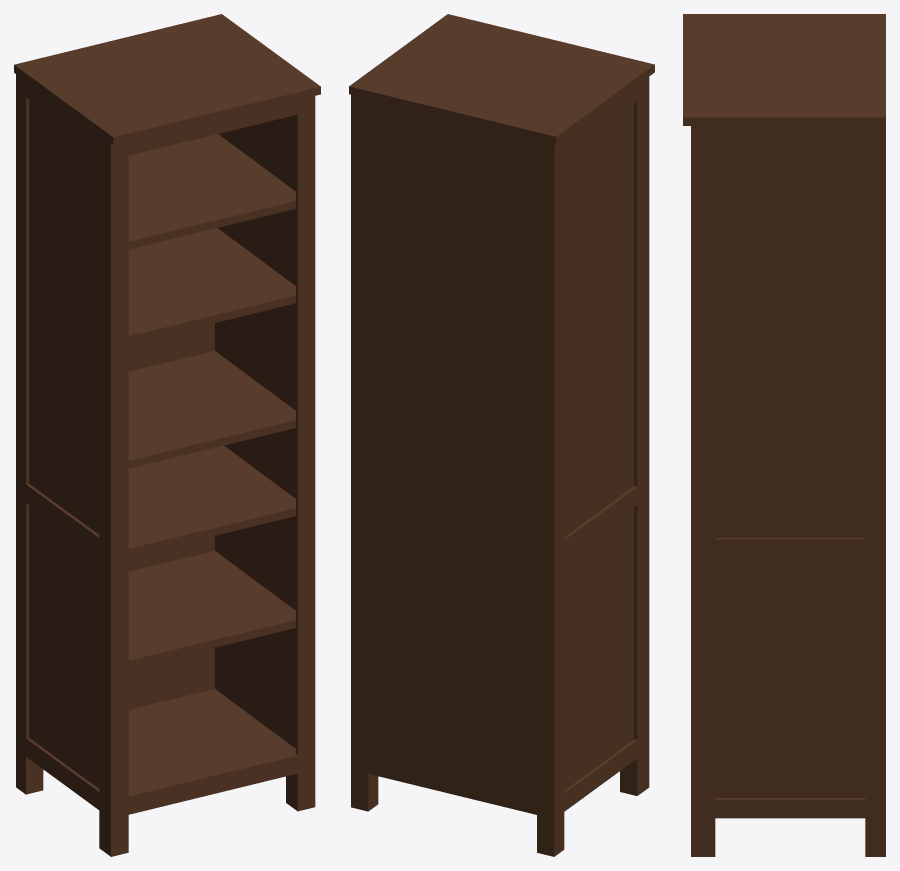
The model's file is bookcase_bookshelf_low_poly.glb.
3 views of the same model, side by side, from view 1: azimuth 30°, elevation 25°; view 2: azimuth 150°, elevation 25°; view 3: azimuth 270°, elevation 25° (orthographic). The views are drawn at different scales.
Visible parts, largest first — view 1: bookstand; view 2: bookstand; view 3: bookstand.
Boxes of the visible parts, <box> form: bookstand: <box>14,14,320,856</box>; bookstand: <box>349,14,654,856</box>; bookstand: <box>683,14,885,856</box>.
Size of the model in its own units: 0.6555 by 2.18 by 0.5418.
